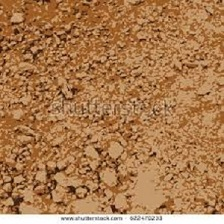clay_soil: (6, 16, 211, 202)
